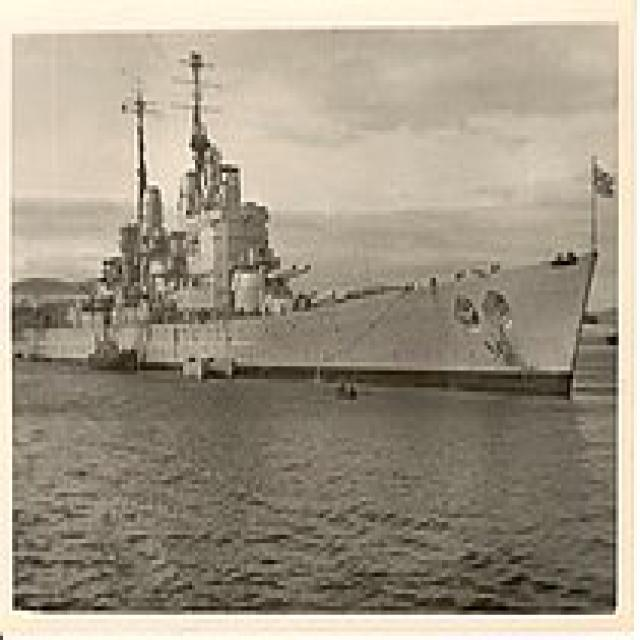boat: (32, 87, 602, 406)
